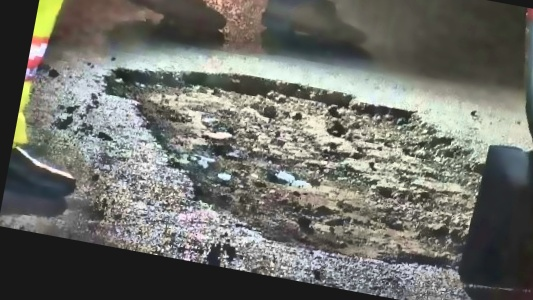pothole: (77, 45, 527, 283)
